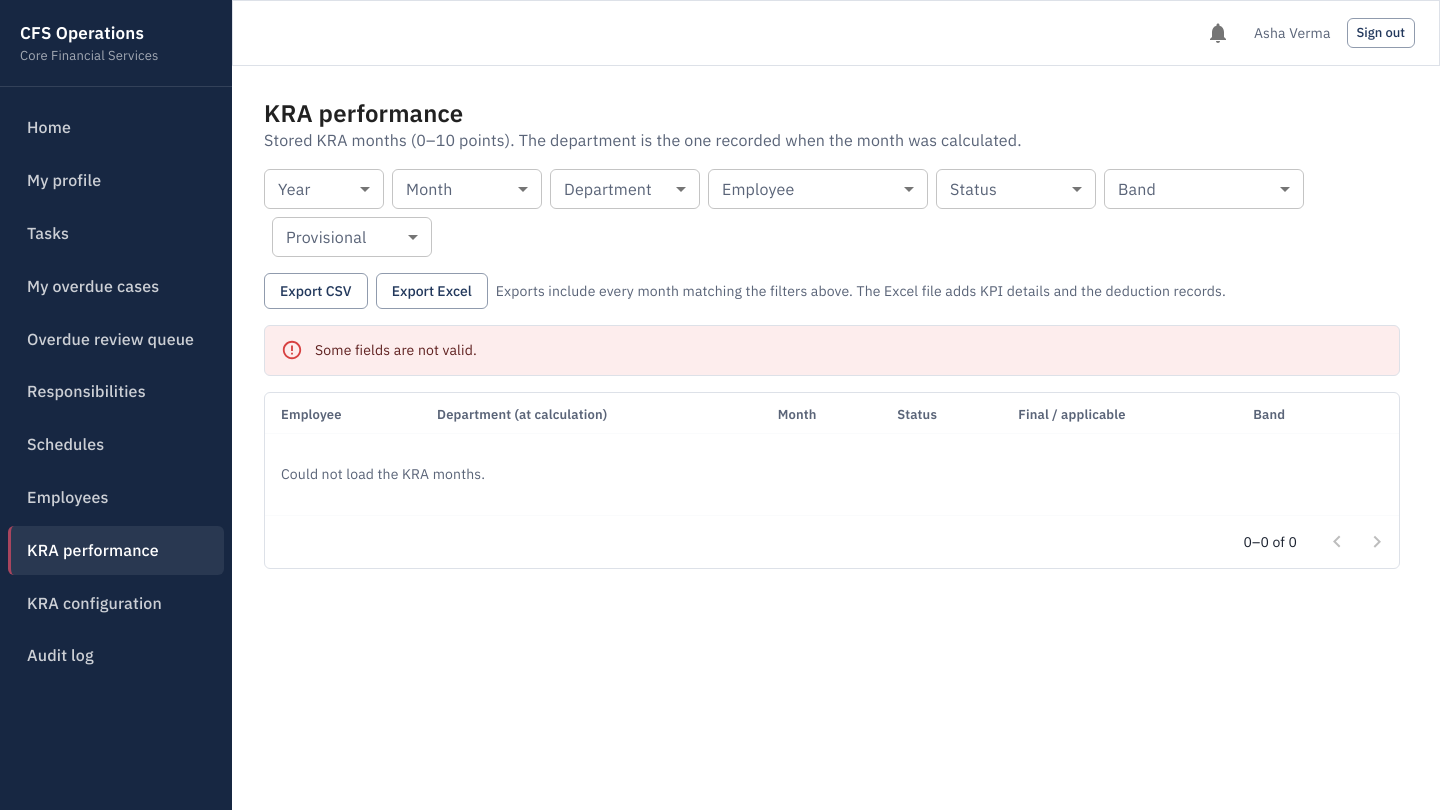
KRA performance for HR / Admin (Phase 7.4) › shows an API error from the list and from an export
Expected: the text "Some fields are not valid." is shown, [315,341,477,359]
Step 1. Click the button "Export CSV" → {"x": 316, "y": 291}, box [264,273,368,309]
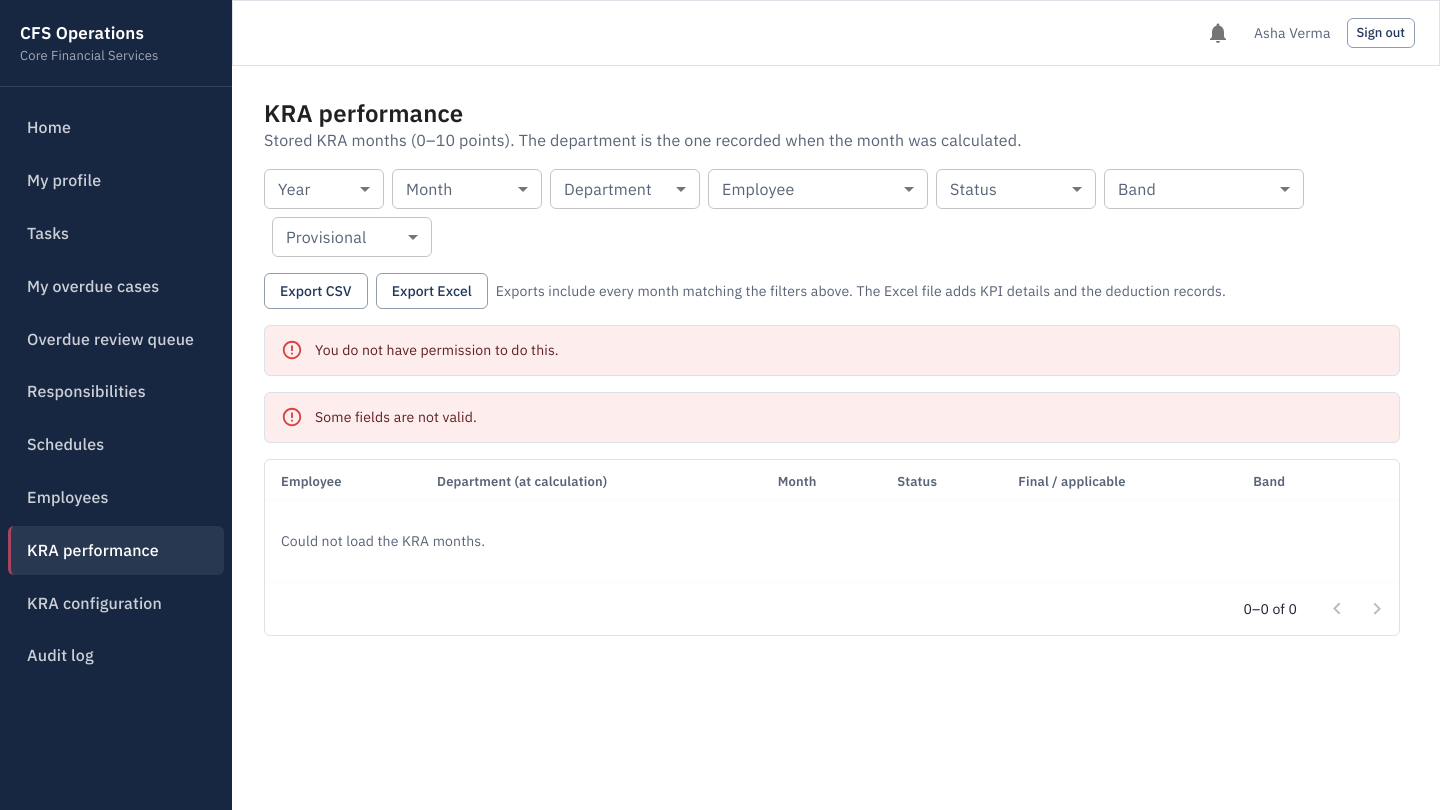
Expected: the text "You do not have permission to do this." is shown, [315,341,559,359]
